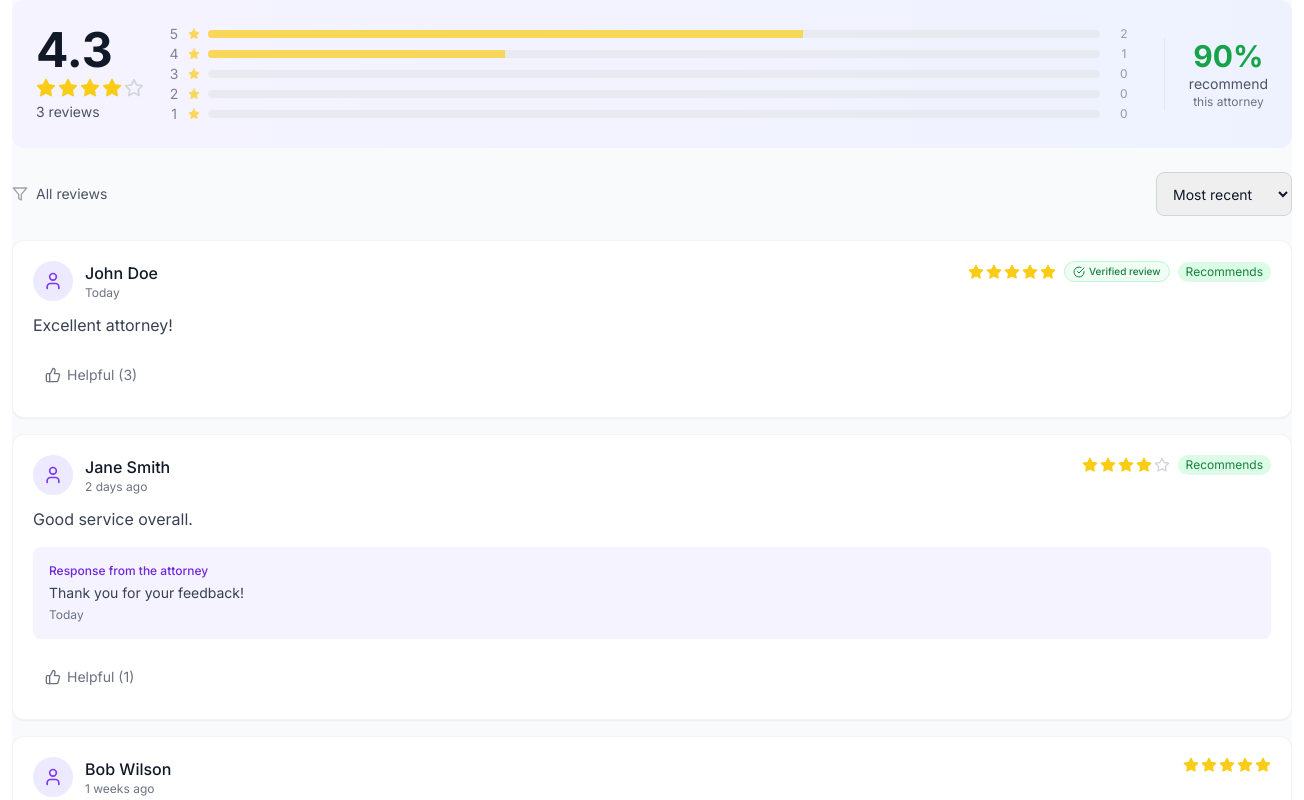
Scenario: ReviewsSection — helpful vote › increments helpful count on vote click
expect the text "Helpful (3)" is shown: met, box 67,365 -> 137,385
Click the button "Helpful (3)": point(91, 375) 33,353 -> 149,397
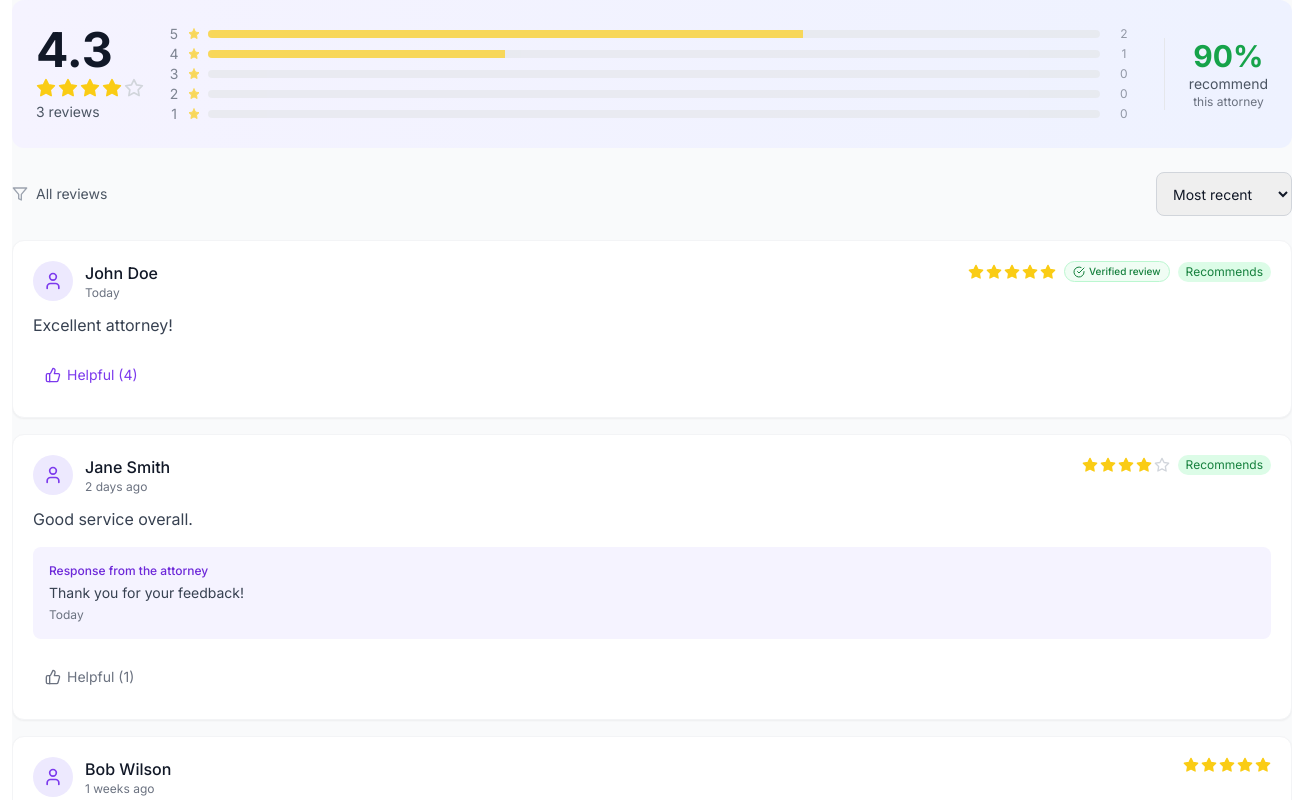
expect the text "Helpful (4)" is shown: met, box 67,365 -> 138,385
